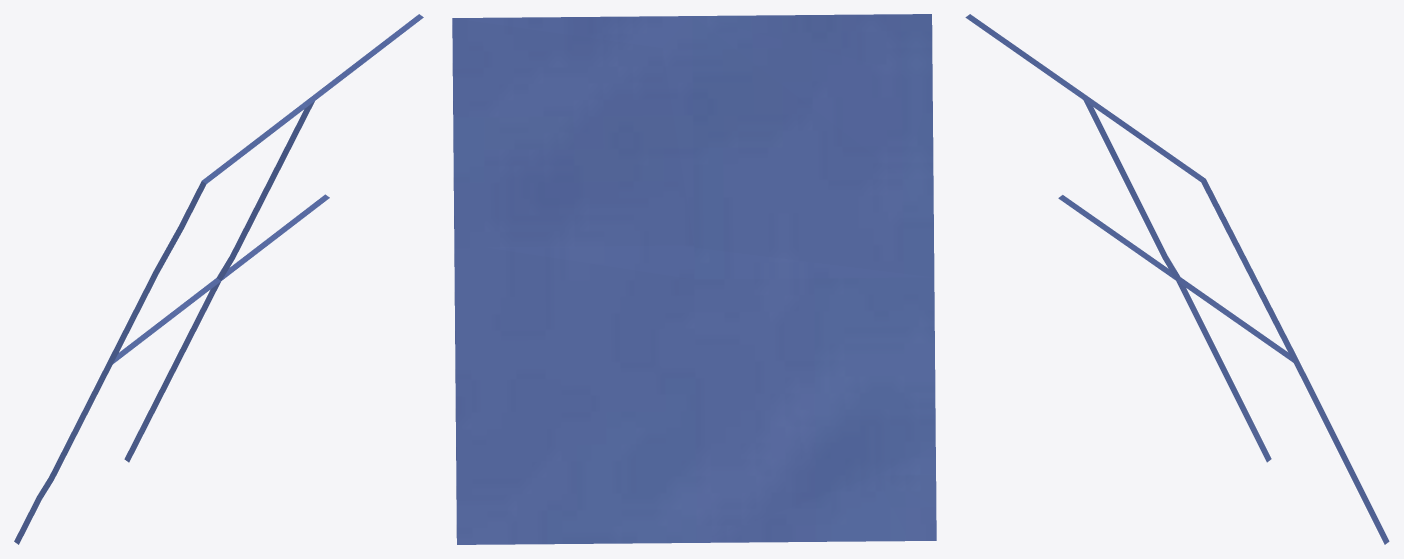
3 renders of one model, left to right at view 1: azimuth 30°, elevation 25°; view 2: azimuth 150°, elevation 25°; view 3: azimuth 270°, elevation 25°, orthographic. The views are drawn at different scales.
Size of the model in its own units: 9850 by 8870 by 8278.
1 material, 1 textured.
